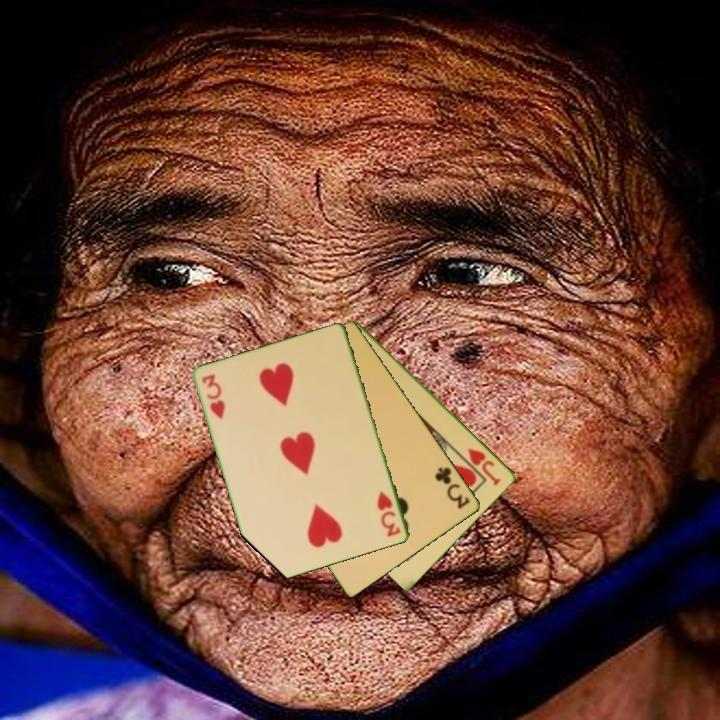3c: (431, 463, 473, 512)
3h: (374, 488, 404, 540), (199, 371, 228, 422)
Jh: (464, 445, 504, 489)
